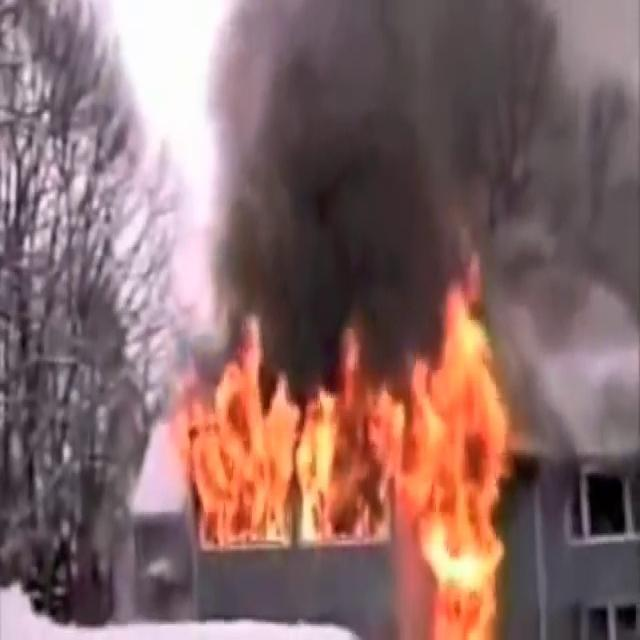Fire: (162, 274, 522, 628)
Smoke: (168, 0, 638, 370)
